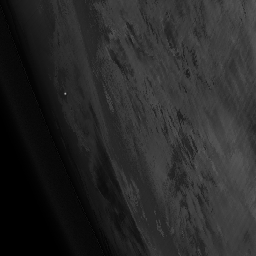Target: (62, 91, 67, 96)
